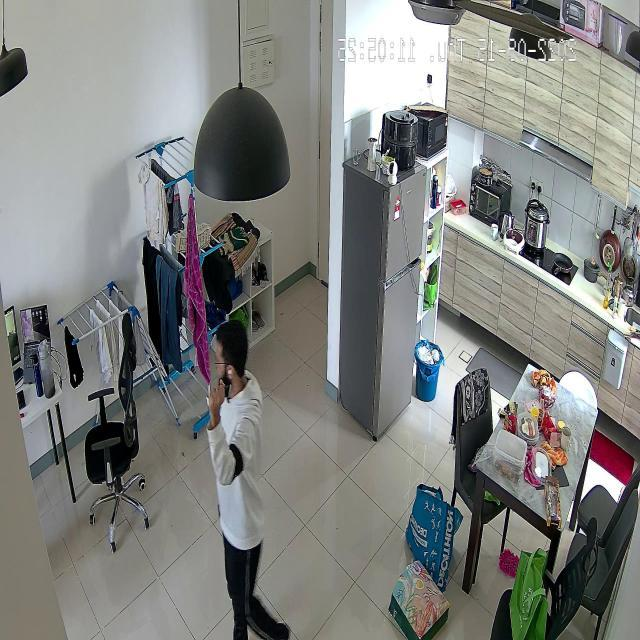Knife: (200, 337, 227, 404)
